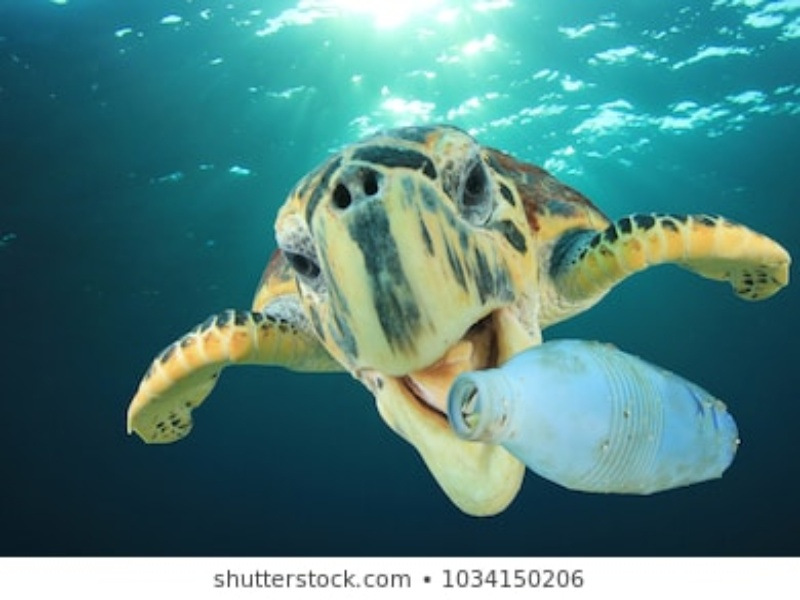plastic-bottle: (451, 336, 743, 495)
